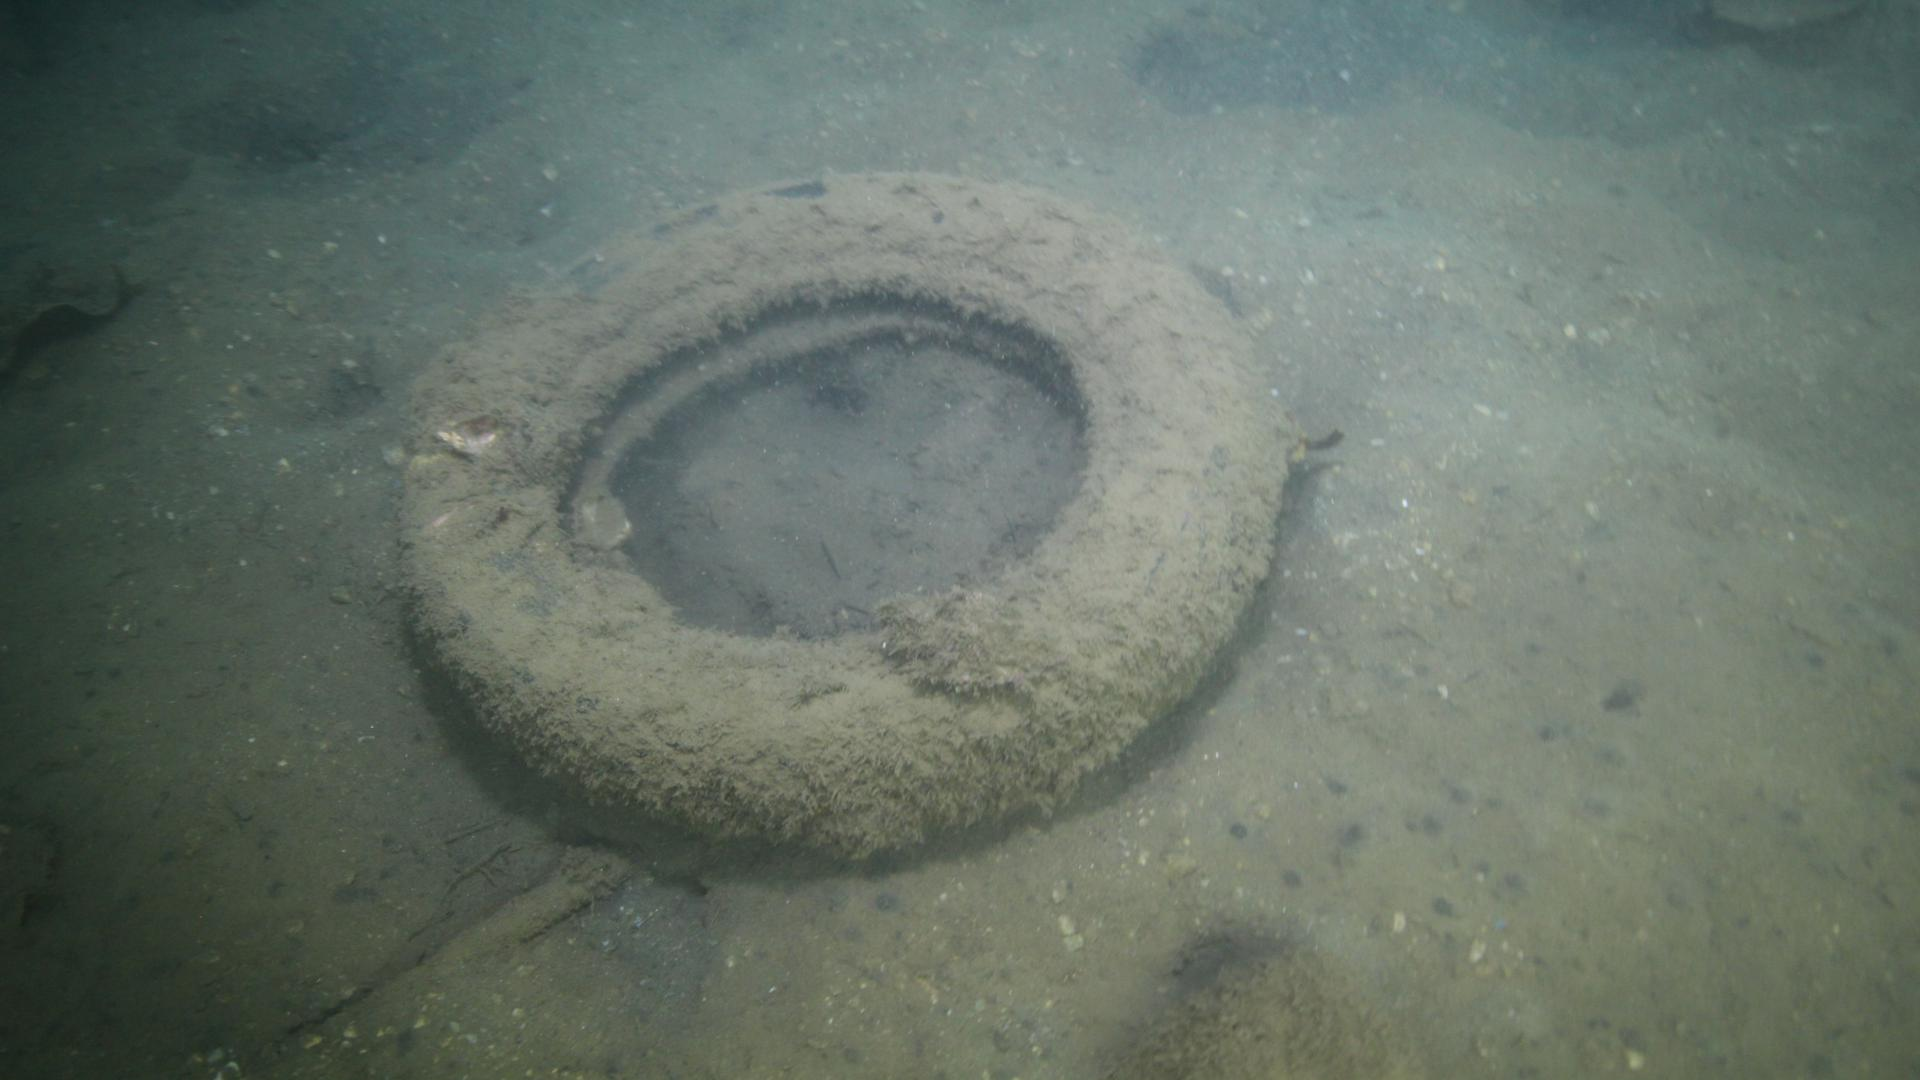tire: (396, 166, 1280, 858)
